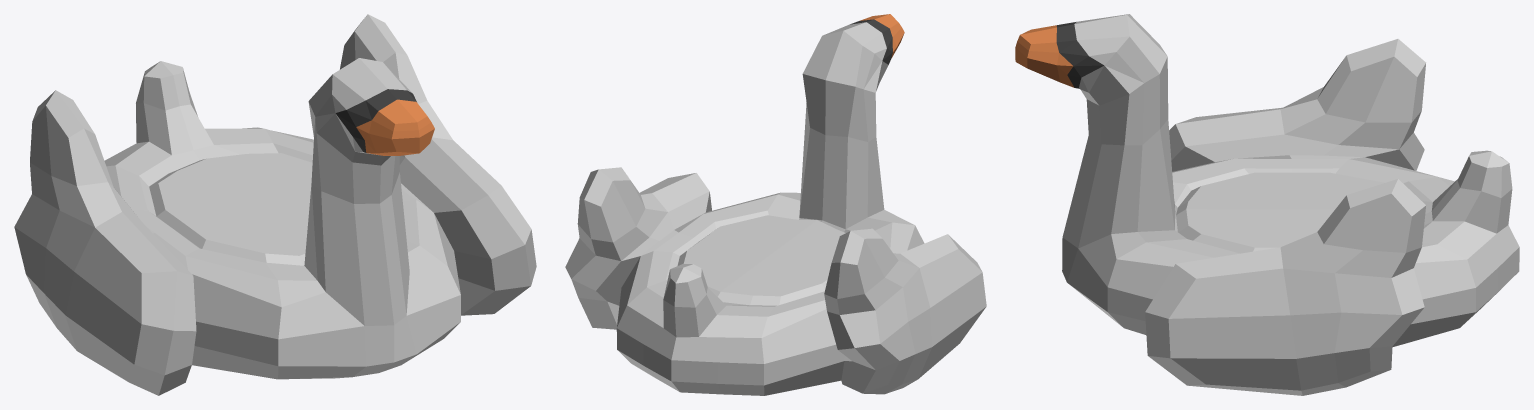
The model's file is SwanPoolFloat.gltf.
The picture shows the model from 3 angles, left to right: view 1: azimuth 30°, elevation 25°; view 2: azimuth 150°, elevation 25°; view 3: azimuth 270°, elevation 25°; orthographic projection. The views are drawn at different scales.
Parts seen in each view (by area): view 1: node-0; view 2: node-0; view 3: node-0.
Part boxes in pixels (bbox=[...]): node-0: bbox=[14, 14, 536, 395]; node-0: bbox=[565, 14, 986, 395]; node-0: bbox=[1015, 14, 1519, 395].
Bounding box in the file's own units: 6.92 × 5.42 × 8.12.
